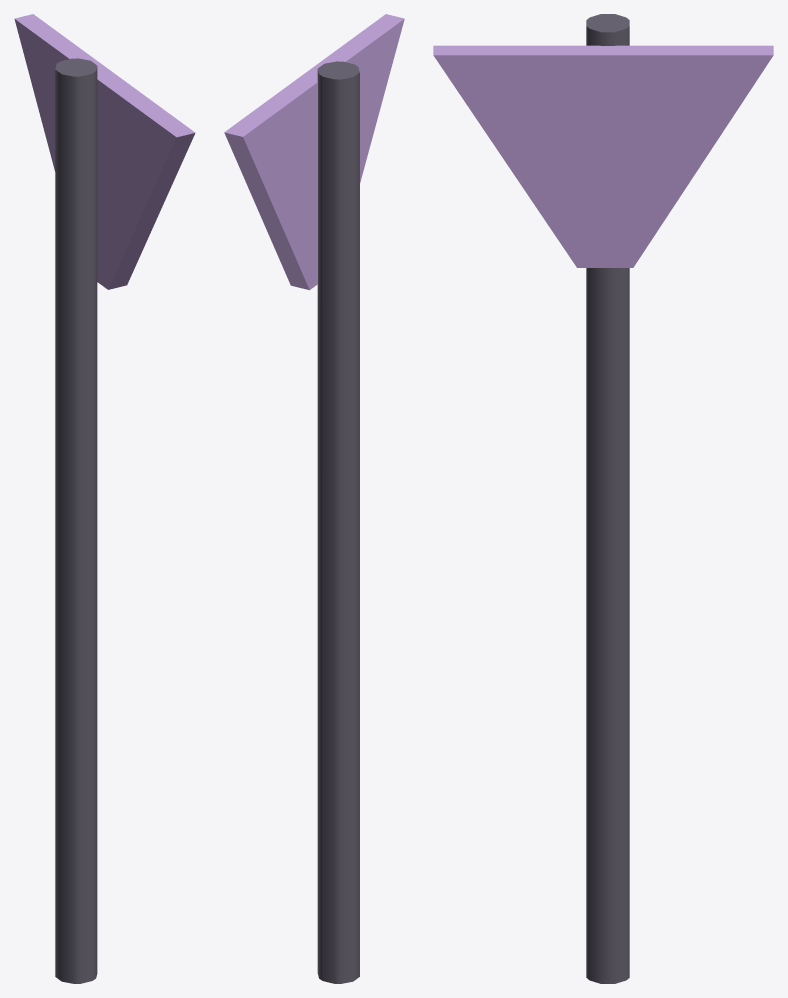
File: Yield_Sign.fbx
The picture shows the model from 3 angles, left to right: view 1: azimuth 30°, elevation 25°; view 2: azimuth 150°, elevation 25°; view 3: azimuth 270°, elevation 25°; orthographic projection. The views are drawn at different scales.
Visible parts, largest first — view 1: Yield_Sign; view 2: Yield_Sign; view 3: Yield_Sign.
Part boxes in pixels (x1,y1,x2,y2): Yield_Sign: (14,14,195,983); Yield_Sign: (224,14,404,983); Yield_Sign: (433,14,773,983).
Size of the model in its own units: 0.164 by 2.65 by 0.8575.
